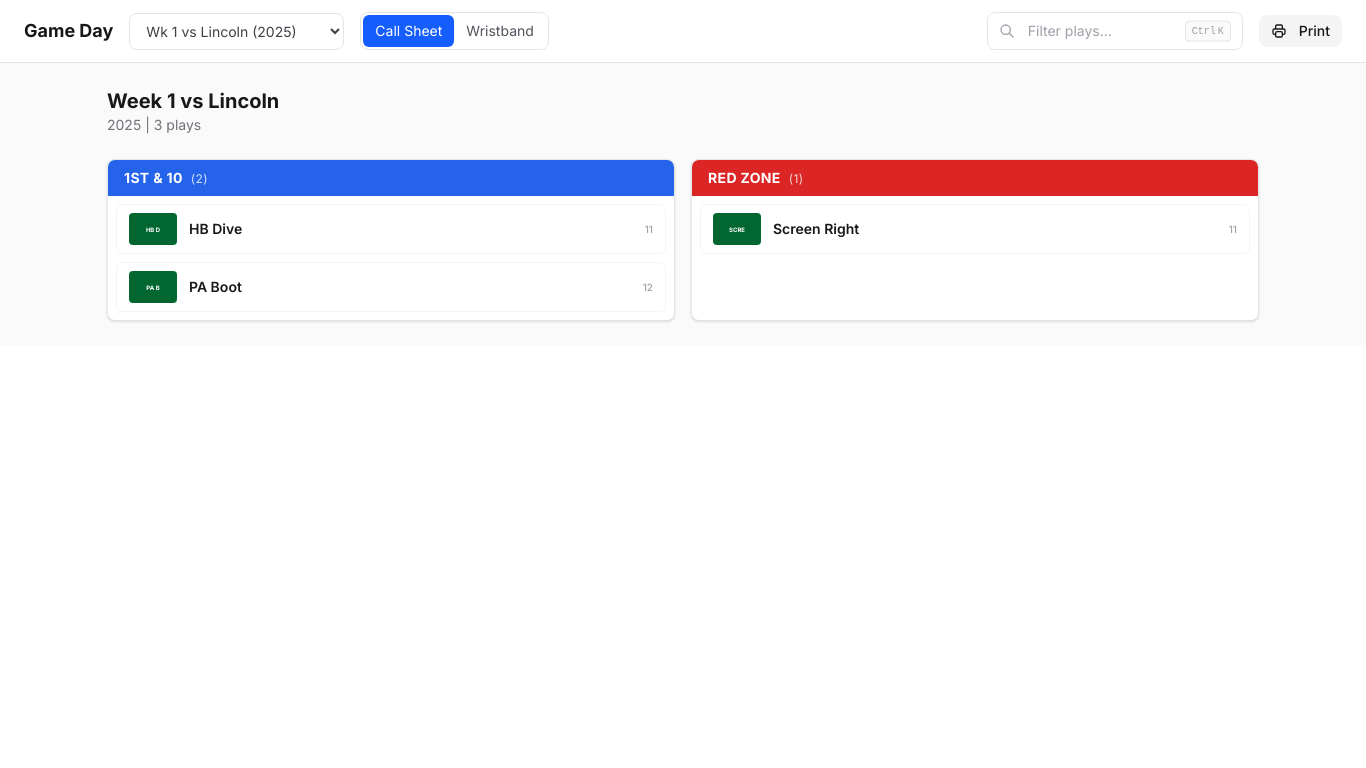
it: GameDayPage › switches to wristband view when tab is clicked
Check: the element with test id "call-sheet-view" is shown, box [107,159,1259,321]
Click the button with test id "tab-wristband".
click(500, 31)  # box [454,15,546,47]
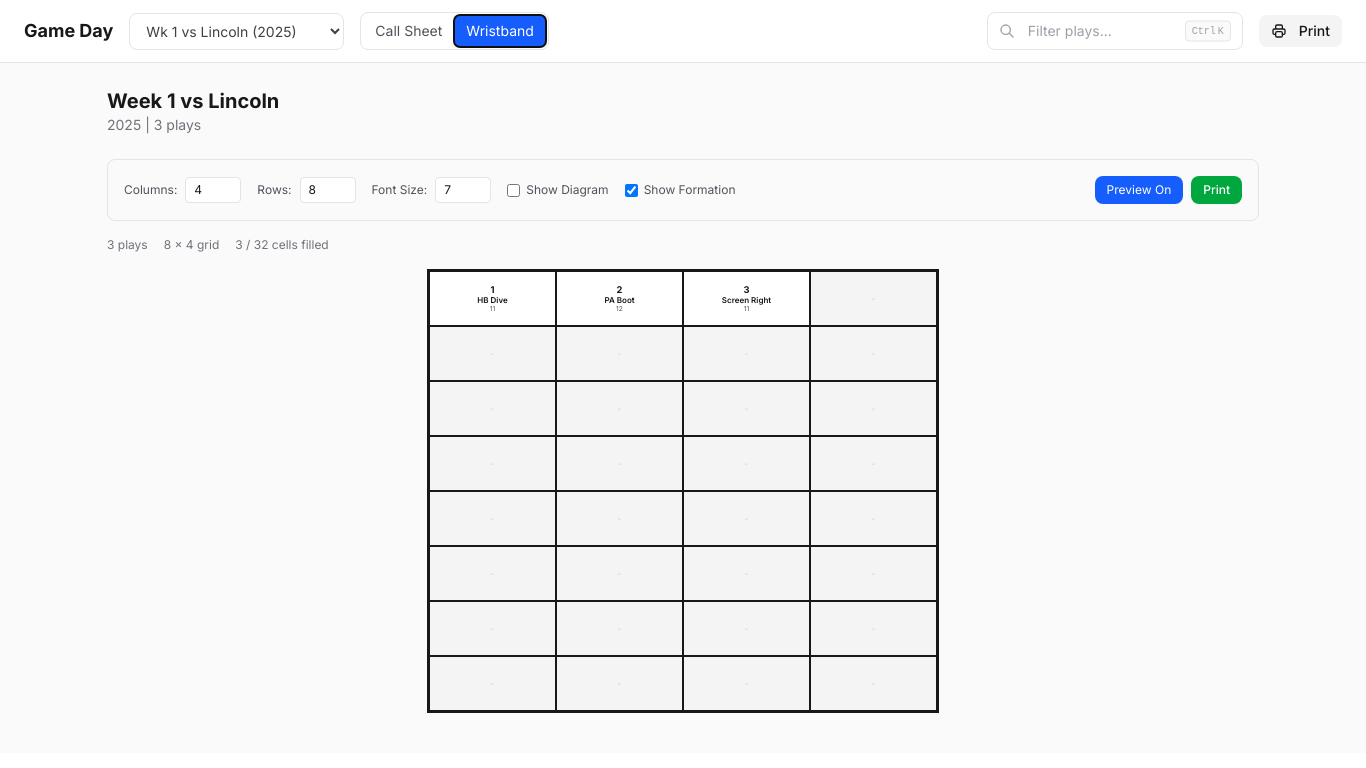
Check: the element with test id "wristband-generator" is shown
Check: the element with test id "call-sheet-view" is gone
